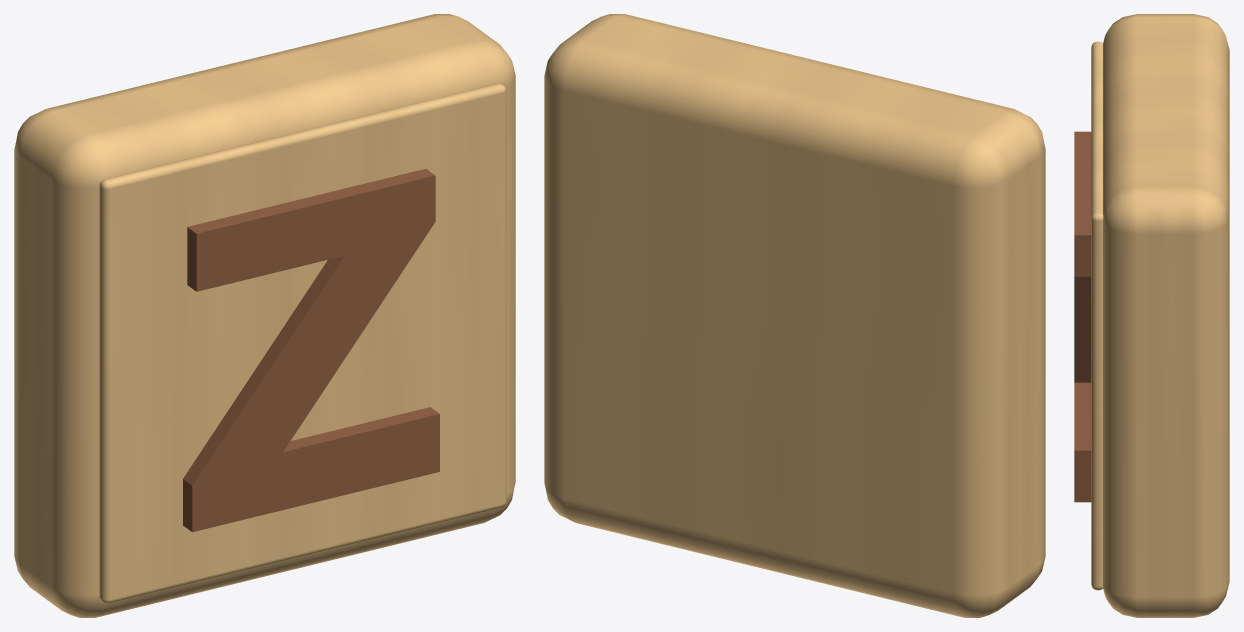
3 views of the same model, side by side, from view 1: azimuth 30°, elevation 25°; view 2: azimuth 150°, elevation 25°; view 3: azimuth 270°, elevation 25° (orthographic). The views are drawn at different scales.
Parts seen in each view (by area): view 1: Tile_Z; view 2: Tile_Z; view 3: Tile_Z.
Boxes of the visible parts, x1,y1,x2,y2 form: Tile_Z: (14,14,515,617); Tile_Z: (544,14,1045,617); Tile_Z: (1074,14,1229,617).
Bounding box in the file's own units: 0.21 × 0.21 × 0.069.
Materials: 2 (1 with a texture image).
